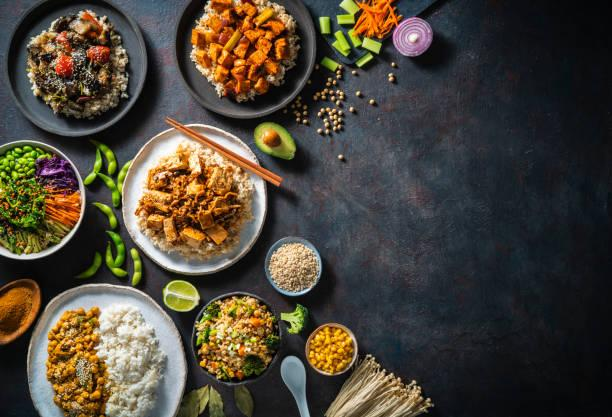Braised Crucian Carp: (122, 123, 267, 272), (24, 282, 185, 416), (5, 0, 148, 135), (173, 1, 314, 119), (0, 138, 85, 260), (191, 291, 282, 386)
